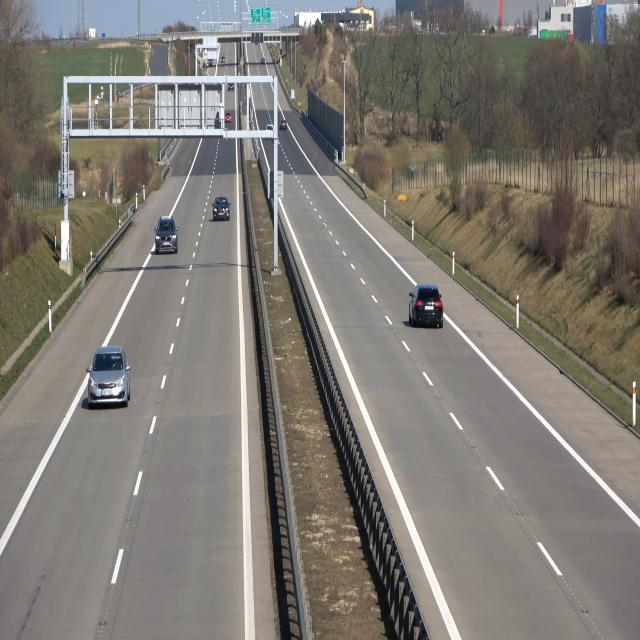Car: (88, 347, 132, 409), (408, 282, 445, 332), (154, 215, 178, 256), (211, 197, 231, 222), (280, 118, 288, 130), (225, 111, 232, 124)
